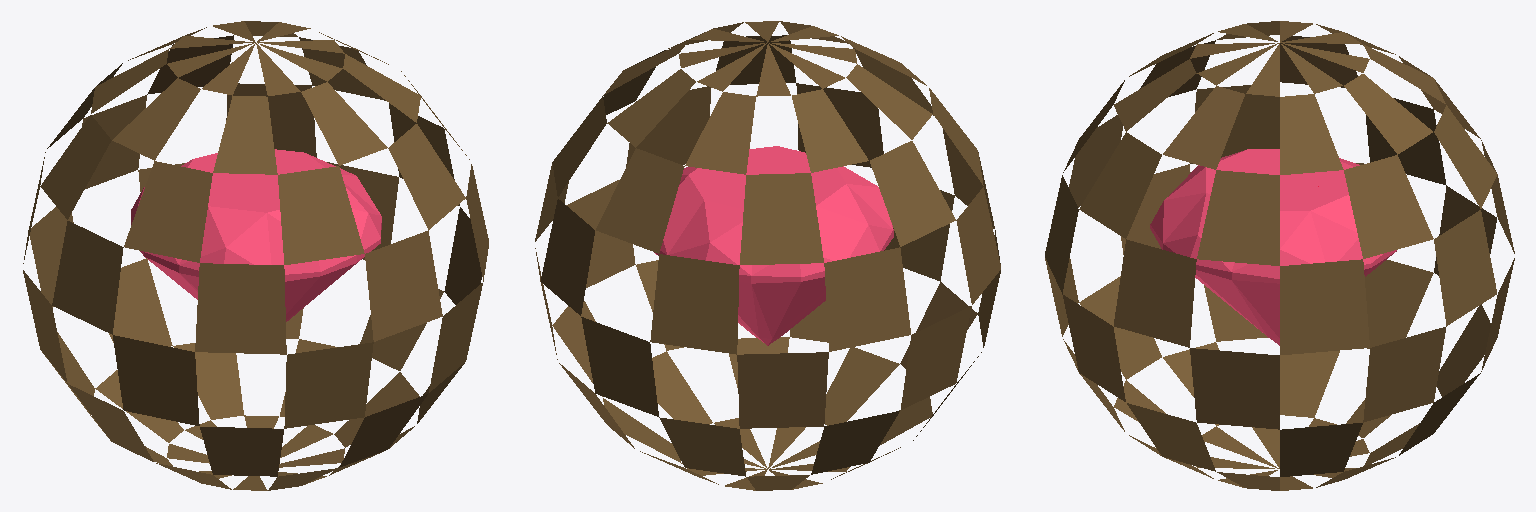
3 renders of one model, left to right at view 1: azimuth 30°, elevation 25°; view 2: azimuth 150°, elevation 25°; view 3: azimuth 270°, elevation 25°, orthographic.
Visible parts, largest first — view 1: 球_球.001; view 2: 球_球.001; view 3: 球_球.001.
Boxes of the visible parts, x1,y1,x2,y2 form: 球_球.001: [23, 21, 488, 490]; 球_球.001: [535, 21, 1000, 490]; 球_球.001: [1045, 21, 1514, 490].
Bounding box in the file's own units: 2 × 2 × 2.
1 materials, 1 textured.